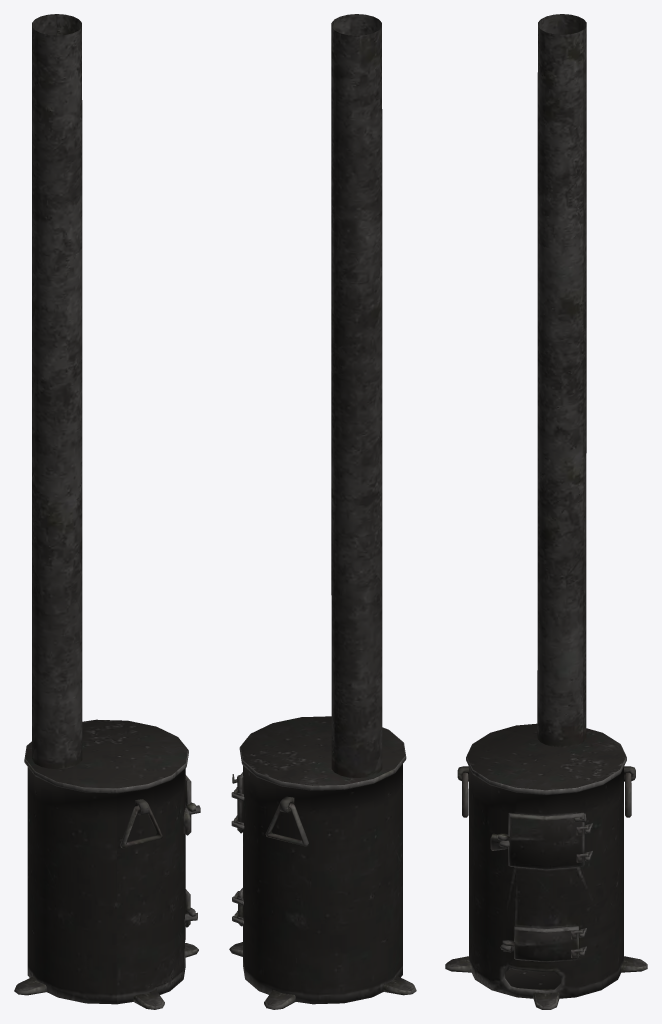
The model's file is pian_small_stove.glb.
3 views of the same model, side by side, from view 1: azimuth 30°, elevation 25°; view 2: azimuth 150°, elevation 25°; view 3: azimuth 270°, elevation 25° (orthographic). The views are drawn at different scales.
Parts seen in each view (by area): view 1: door_down_Material #25_0; view 2: door_down_Material #25_0; view 3: door_down_Material #25_0.
Part boxes in pixels (bbox=[...]): door_down_Material #25_0: bbox=[14, 14, 200, 1009]; door_down_Material #25_0: bbox=[229, 14, 416, 1009]; door_down_Material #25_0: bbox=[445, 14, 647, 1009].
Bounding box in the file's own units: 0.179 × 0.9 × 0.179.
Materials: 1 (1 with a texture image).
